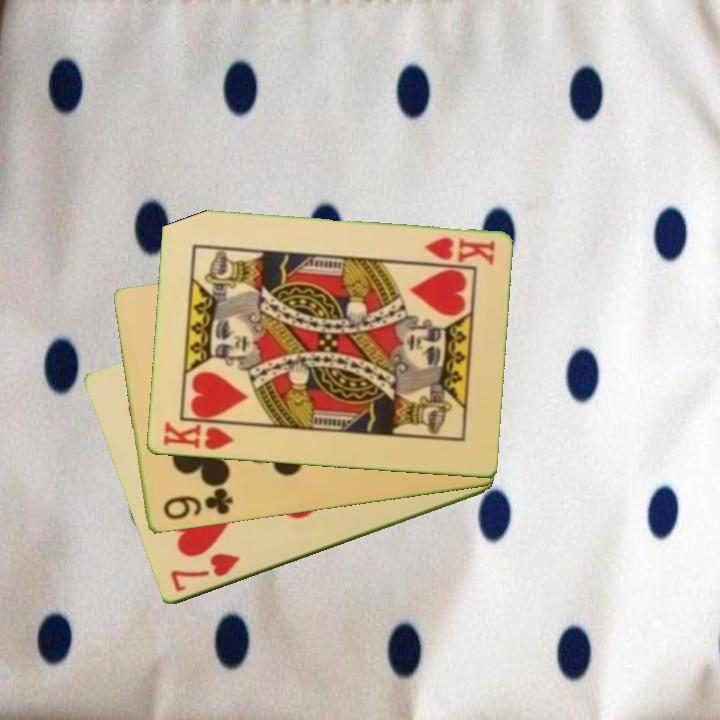7h: (166, 550, 244, 596)
9c: (159, 485, 236, 523)
Kh: (159, 418, 242, 453), (421, 234, 497, 269)
